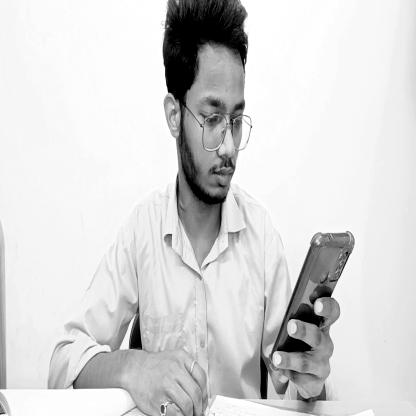Distracted: (169, 1, 257, 210)
